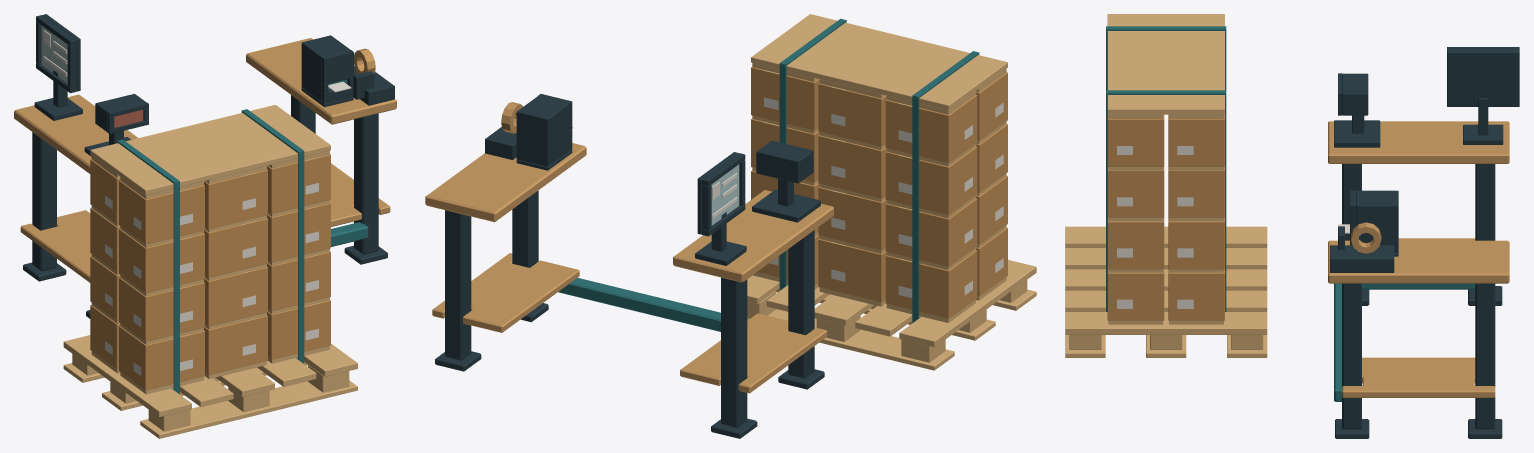
Rendered from receiver-workcell-fixture.glb.
3 views of the same model, side by side, from view 1: azimuth 30°, elevation 25°; view 2: azimuth 150°, elevation 25°; view 3: azimuth 270°, elevation 25° (orthographic). The views are drawn at different scales.
Visible parts, largest first — view 1: receiver-workcell-fixture__batch_15, receiver-workcell-fixture__batch_14, receiver-workcell-fixture__batch_02, receiver-workcell-fixture__batch_00, receiver-workcell-fixture__batch_13, receiver-workcell-fixture__batch_04, receiver-workcell-fixture__batch_08, receiver-workcell-fixture__batch_06, receiver-workcell-fixture__batch_11, receiver-workcell-fixture__batch_10, receiver-workcell-fixture__batch_01, receiver-workcell-fixture__batch_12; view 2: receiver-workcell-fixture__batch_15, receiver-workcell-fixture__batch_14, receiver-workcell-fixture__batch_02, receiver-workcell-fixture__batch_00, receiver-workcell-fixture__batch_13, receiver-workcell-fixture__batch_04, receiver-workcell-fixture__batch_06, receiver-workcell-fixture__batch_08, receiver-workcell-fixture__batch_01, receiver-workcell-fixture__batch_10, receiver-workcell-fixture__batch_11; view 3: receiver-workcell-fixture__batch_14, receiver-workcell-fixture__batch_15, receiver-workcell-fixture__batch_02, receiver-workcell-fixture__batch_00, receiver-workcell-fixture__batch_08, receiver-workcell-fixture__batch_06, receiver-workcell-fixture__batch_04, receiver-workcell-fixture__batch_13, receiver-workcell-fixture__batch_11, receiver-workcell-fixture__batch_01, receiver-workcell-fixture__batch_12.
Boxes of the visible parts, x1,y1,x2,y2 form: receiver-workcell-fixture__batch_15: (90,154,330,390); receiver-workcell-fixture__batch_14: (63,105,357,438); receiver-workcell-fixture__batch_02: (14,38,396,282); receiver-workcell-fixture__batch_00: (23,95,387,318); receiver-workcell-fixture__batch_13: (117,109,304,394); receiver-workcell-fixture__batch_04: (301,35,353,107); receiver-workcell-fixture__batch_08: (34,14,82,120); receiver-workcell-fixture__batch_06: (84,93,148,156); receiver-workcell-fixture__batch_11: (353,66,394,105); receiver-workcell-fixture__batch_10: (41,26,67,83); receiver-workcell-fixture__batch_01: (331,222,368,246); receiver-workcell-fixture__batch_12: (354,48,375,73); receiver-workcell-fixture__batch_15: (751,67,1007,318); receiver-workcell-fixture__batch_14: (747,14,1036,370); receiver-workcell-fixture__batch_02: (425,143,833,393); receiver-workcell-fixture__batch_00: (435,190,824,438); receiver-workcell-fixture__batch_13: (779,18,979,322); receiver-workcell-fixture__batch_04: (516,94,572,170); receiver-workcell-fixture__batch_06: (752,140,820,222); receiver-workcell-fixture__batch_08: (695,152,746,265); receiver-workcell-fixture__batch_01: (558,278,748,331); receiver-workcell-fixture__batch_10: (711,164,739,225); receiver-workcell-fixture__batch_11: (485,127,516,159); receiver-workcell-fixture__batch_14: (1065,14,1267,357); receiver-workcell-fixture__batch_15: (1107,114,1224,320); receiver-workcell-fixture__batch_02: (1328,121,1509,397); receiver-workcell-fixture__batch_00: (1335,164,1502,438); receiver-workcell-fixture__batch_08: (1447,47,1519,144); receiver-workcell-fixture__batch_06: (1334,73,1380,147); receiver-workcell-fixture__batch_04: (1350,190,1398,256); receiver-workcell-fixture__batch_13: (1106,26,1226,311); receiver-workcell-fixture__batch_11: (1330,226,1394,272); receiver-workcell-fixture__batch_01: (1334,283,1475,401); receiver-workcell-fixture__batch_12: (1351,222,1381,253).
Size of the model in its own units: 2.19 by 1.4 by 2.25.
